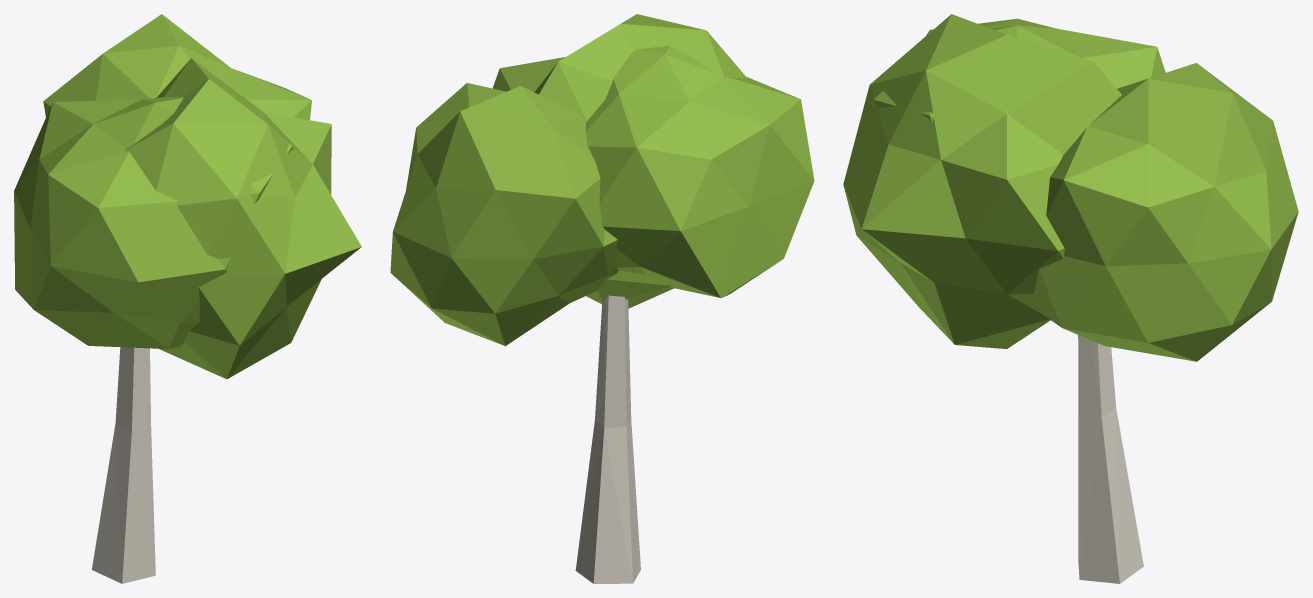
The model's file is HS_LP_Sapling_Birch_01.fbx.
3 views of the same model, side by side, from view 1: azimuth 30°, elevation 25°; view 2: azimuth 150°, elevation 25°; view 3: azimuth 270°, elevation 25° (orthographic). The views are drawn at different scales.
Parts seen in each view (by area): view 1: HS_LP_Sapling_Birch_01; view 2: HS_LP_Sapling_Birch_01; view 3: HS_LP_Sapling_Birch_01.
Part boxes in pixels (box(x1,y1,x2,y2)): HS_LP_Sapling_Birch_01: box(14, 14, 361, 583); HS_LP_Sapling_Birch_01: box(390, 14, 814, 583); HS_LP_Sapling_Birch_01: box(843, 14, 1298, 583).
Size of the model in its own units: 52.43 by 80.68 by 59.97.
